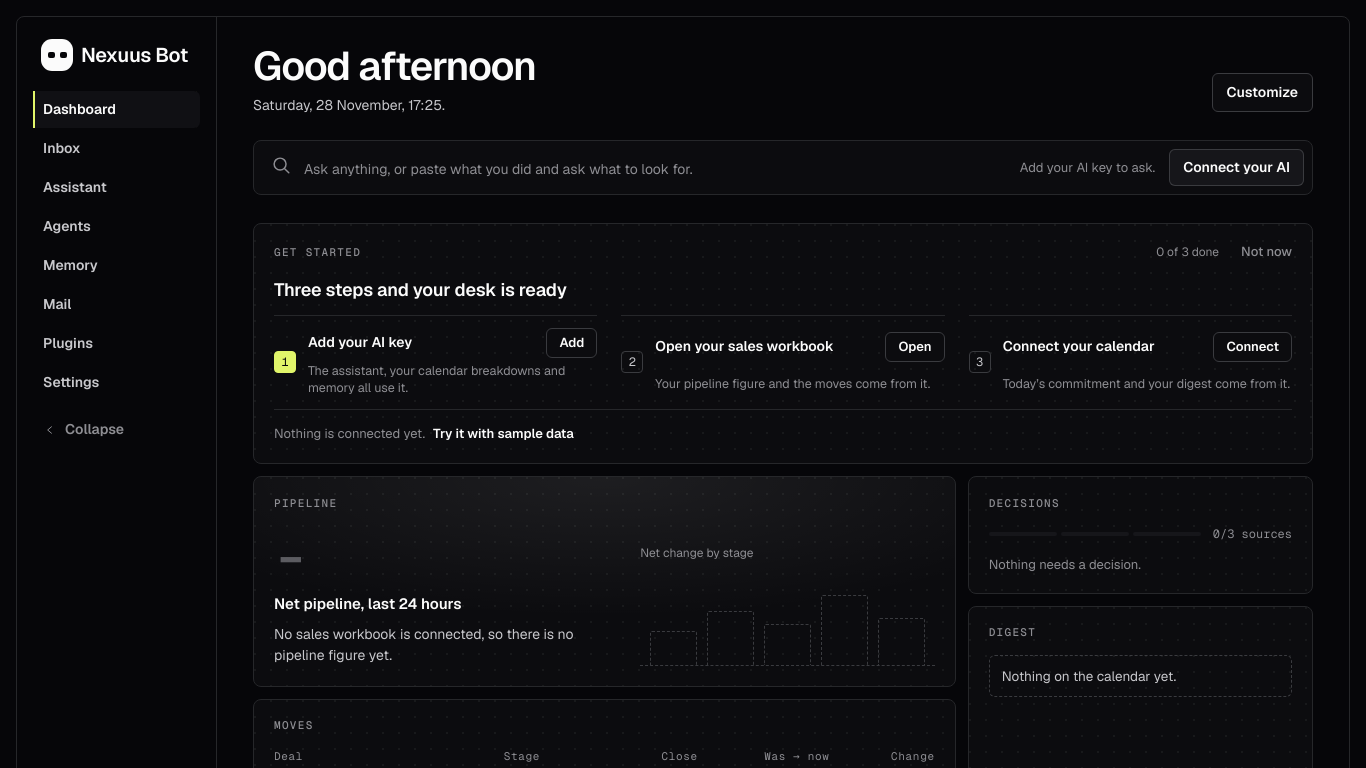
it: the Get started strip (R24) › hides on Not now for this sitting, and the header brings it back with focus
This screenshot has width=1366, height=768.
What coordinates should you click on to do the following:
click the button "Not now"
I would click on:
 (1267, 252)
Its box is top-left (1241, 240), bottom-right (1292, 264).
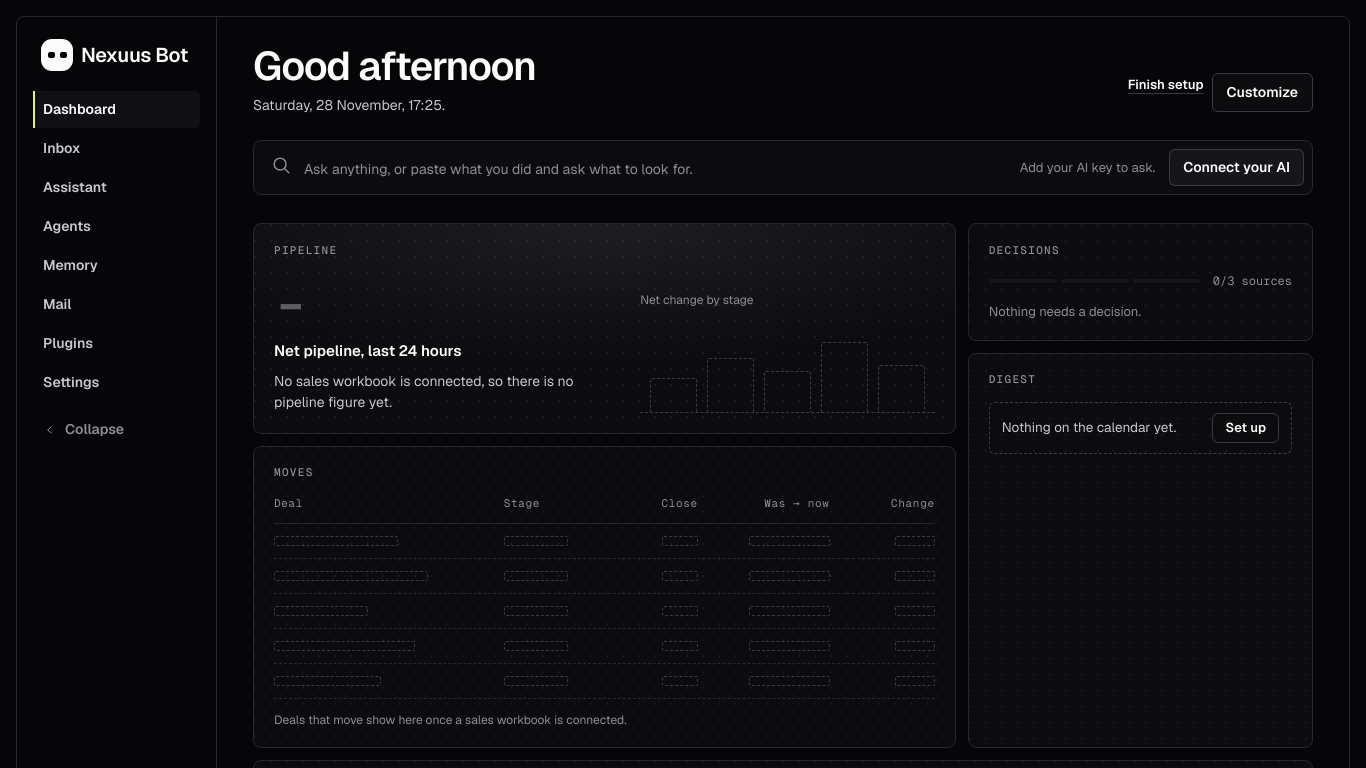
Result: the heading "Three steps and your desk is ready" is gone
// The header says how much is left instead of showing the strip.
What coordinates should you click on to do the following:
click the button with aria-label "Finish setup, 3 steps left"
I would click on:
 (1166, 85)
Its box is top-left (1128, 73), bottom-right (1204, 96).
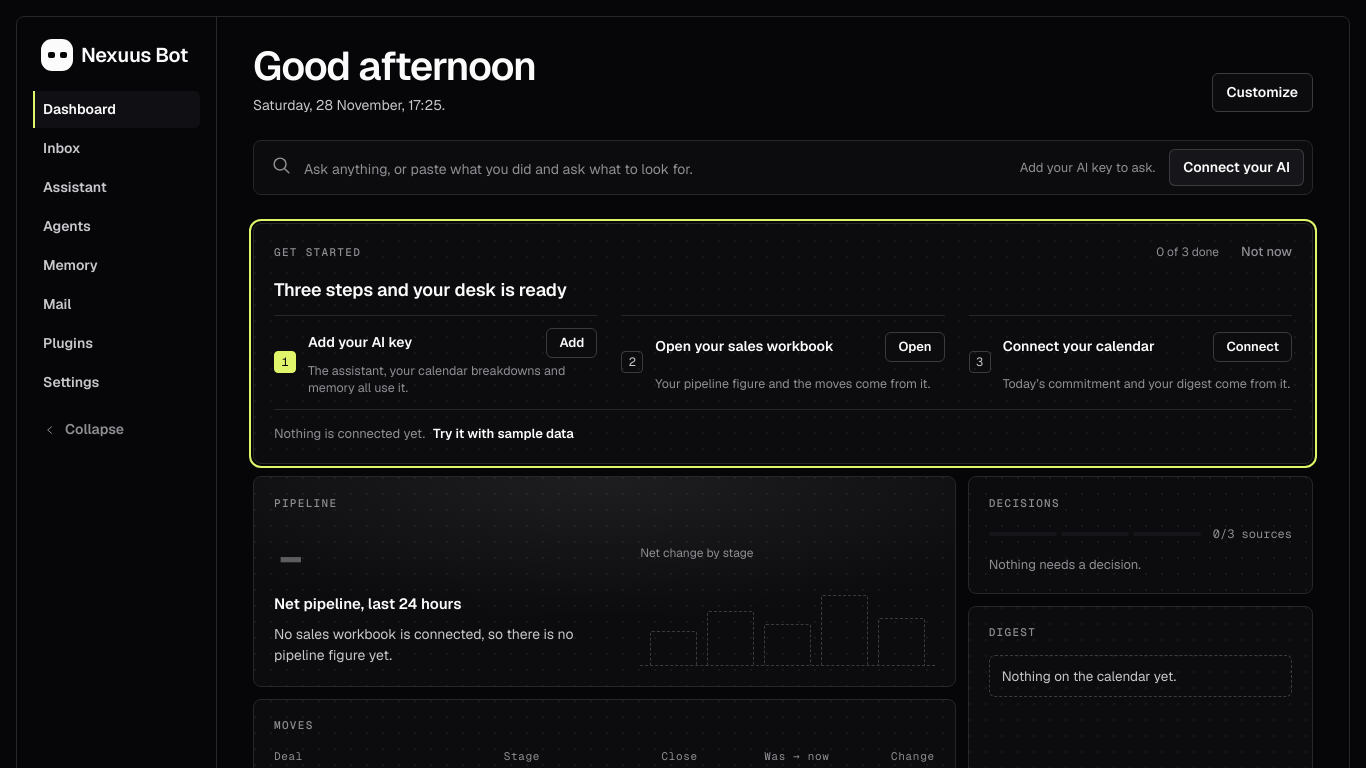
Result: the button "Finish setup" is gone
